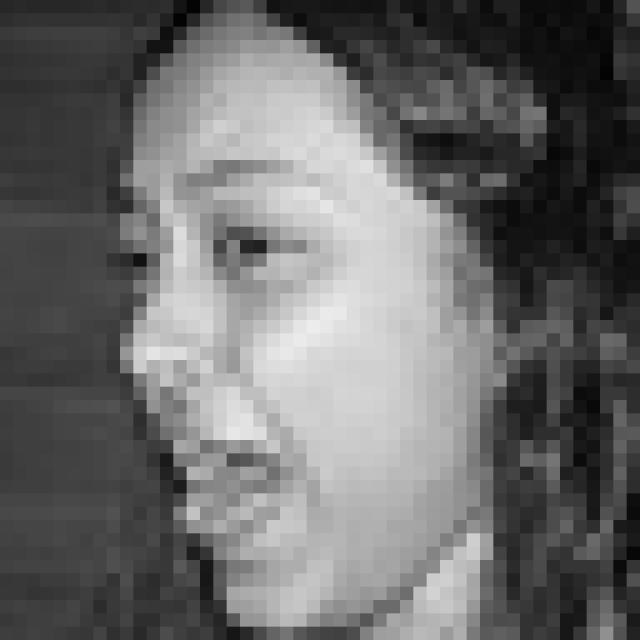disgust: (103, 152, 363, 553)
